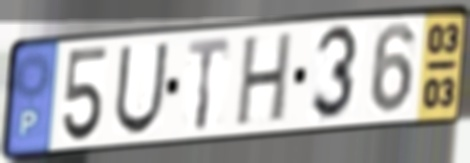3: (306, 21, 365, 125)
5: (60, 43, 110, 144)
6: (367, 20, 419, 118)
H: (233, 29, 296, 131)
T: (185, 34, 233, 133)
U: (111, 40, 172, 138)
